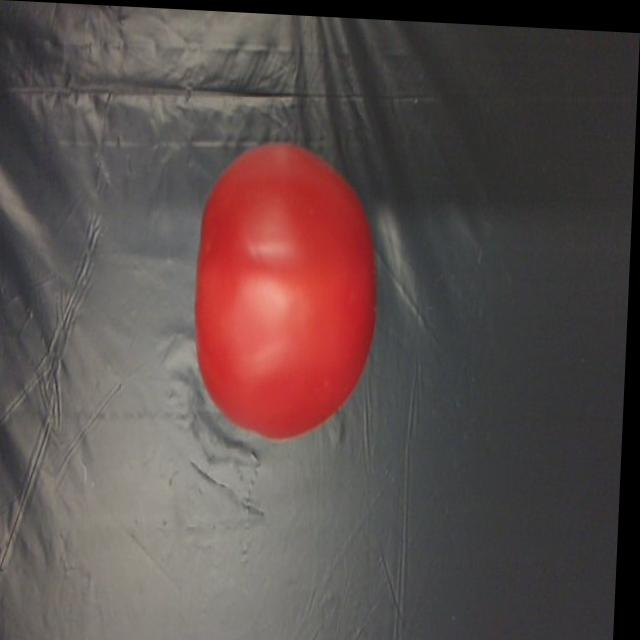kirmizi: (198, 138, 394, 431)
